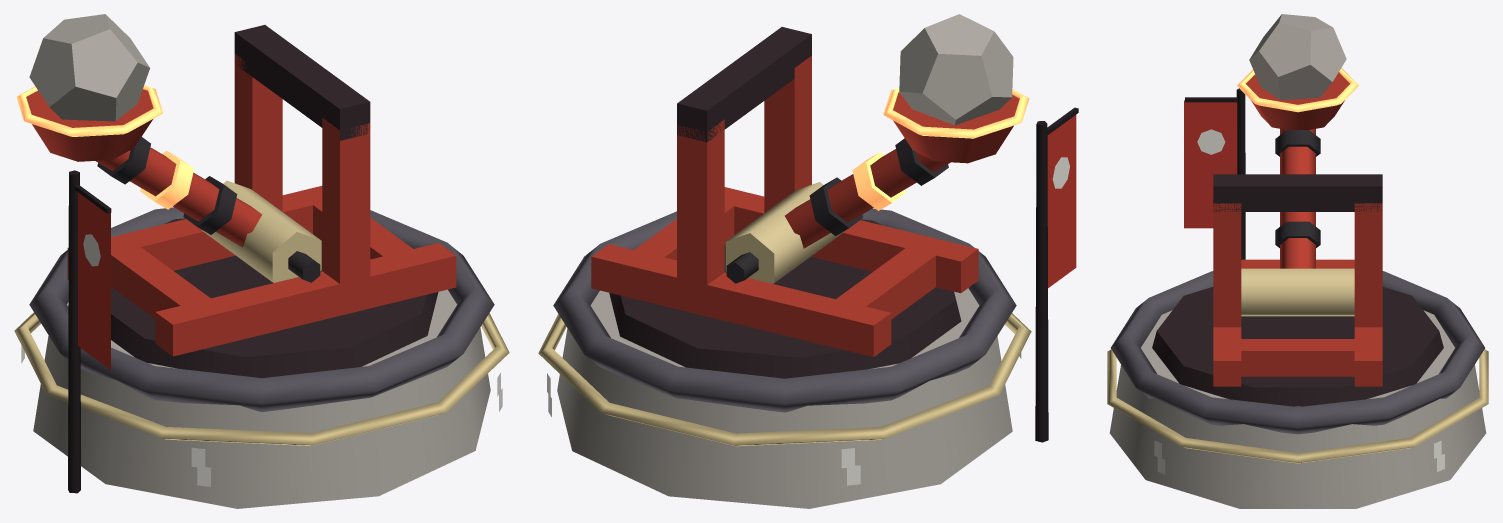
File: tower_catapult_siege.glb
3 views of the same model, side by side, from view 1: azimuth 30°, elevation 25°; view 2: azimuth 150°, elevation 25°; view 3: azimuth 270°, elevation 25° (orthographic). The views are drawn at different scales.
Parts seen in each view (by area): view 1: base, base_rim, turntable, rail_l, stone_0, deco_shimenawa_rope, upright_l, stop_bar, upright_r, cross_w, deco_nobori_cloth, torsion_rope (+9 smaller); view 2: base, base_rim, turntable, rail_r, stone_0, deco_shimenawa_rope, upright_r, stop_bar, rail_l, upright_l, cross_w, torsion_rope (+8 smaller); view 3: base, turntable, base_rim, stop_bar, stone_0, torsion_rope, deco_shimenawa_rope, deco_nobori_cloth, cross_e, upright_r, upright_l, arm_beam (+8 smaller).
Boxes of the visible parts, box(x1,y1,x2,y2) form: base: box(33, 289, 490, 508); base_rim: box(29, 207, 494, 411); turntable: box(111, 218, 438, 377); rail_l: box(155, 243, 456, 356); stone_0: box(29, 14, 149, 121); deco_shimenawa_rope: box(14, 312, 509, 445); upright_l: box(322, 118, 370, 283); stop_bar: box(234, 25, 370, 140); upright_r: box(234, 53, 282, 211); cross_w: box(111, 234, 228, 350); deco_nobori_cloth: box(78, 192, 110, 369); torsion_rope: box(202, 180, 321, 282); base: box(557, 288, 1012, 508); base_rim: box(553, 208, 1016, 412); turntable: box(609, 219, 961, 378); rail_r: box(591, 244, 891, 357); stone_0: box(899, 14, 1013, 125); deco_shimenawa_rope: box(538, 313, 1031, 446); upright_r: box(677, 119, 724, 289); stop_bar: box(677, 27, 811, 142); rail_l: box(726, 189, 978, 293); upright_l: box(764, 55, 811, 212); cross_w: box(818, 237, 952, 348); torsion_rope: box(725, 182, 844, 283); base: box(1109, 310, 1486, 508); turntable: box(1152, 287, 1443, 406); base_rim: box(1111, 271, 1484, 434); stop_bar: box(1213, 174, 1382, 211); stone_0: box(1249, 14, 1346, 99); torsion_rope: box(1241, 268, 1354, 316); deco_shimenawa_rope: box(1107, 349, 1488, 463); deco_nobori_cloth: box(1184, 100, 1237, 228); cross_e: box(1218, 339, 1382, 376); upright_r: box(1354, 203, 1382, 327); upright_l: box(1213, 203, 1241, 327); arm_beam: box(1280, 129, 1315, 268).
Size of the model in its own units: 0.448 by 0.4058 by 0.4052.
